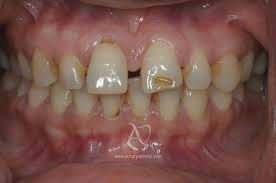normal: (182, 88, 208, 117), (98, 88, 121, 116), (72, 88, 97, 112), (48, 85, 70, 110), (211, 86, 232, 107), (17, 50, 31, 79), (29, 85, 48, 105), (241, 53, 252, 81), (253, 53, 266, 74), (248, 74, 263, 90), (232, 84, 243, 102), (16, 79, 29, 94), (9, 54, 18, 74), (3, 54, 10, 71), (6, 76, 14, 88)
rough: (141, 40, 181, 89)
yellow: (88, 41, 127, 93), (212, 54, 240, 91), (182, 53, 211, 88), (31, 47, 56, 86), (152, 84, 179, 117), (126, 79, 150, 116), (60, 54, 84, 88)
